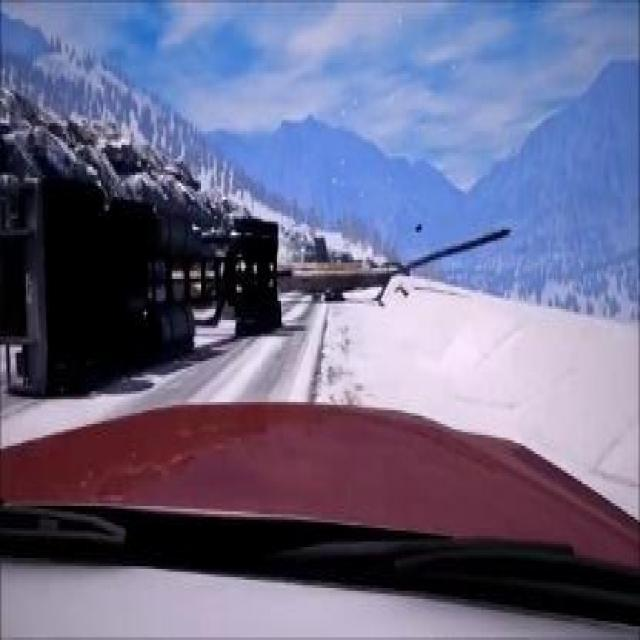accident: (0, 150, 289, 408)
